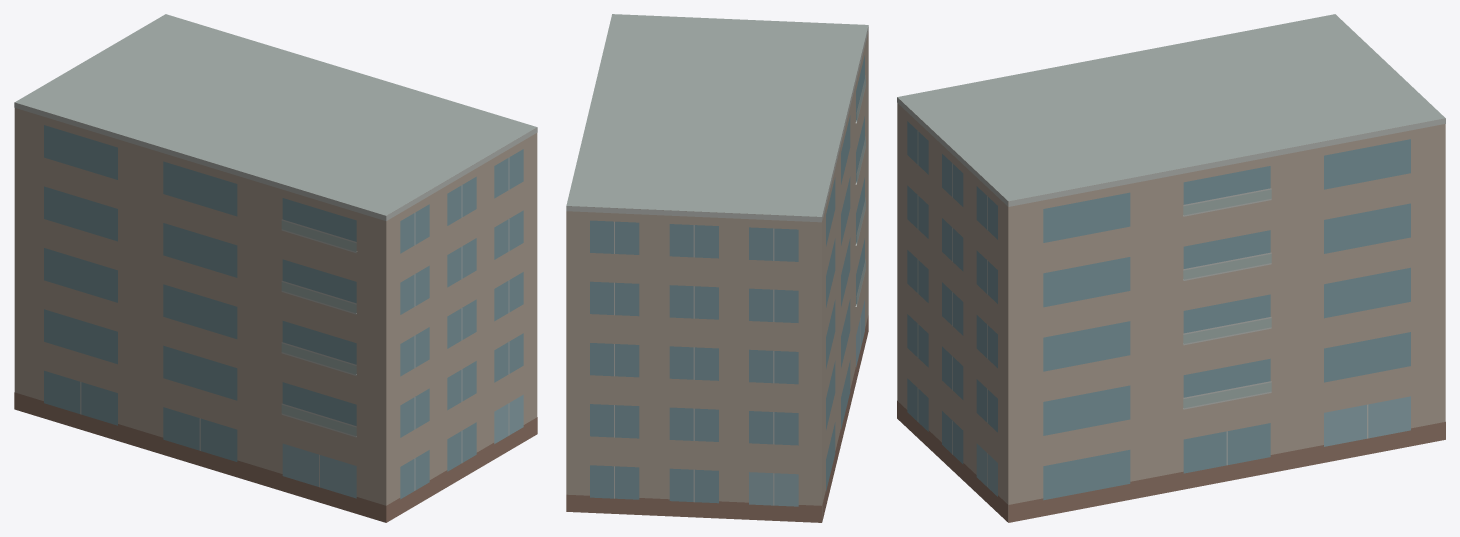
File: survey-upis-32968444.glb
The picture shows the model from 3 angles, left to right: view 1: azimuth 30°, elevation 25°; view 2: azimuth 150°, elevation 25°; view 3: azimuth 270°, elevation 25°; orthographic projection. The views are drawn at different scales.
Visible parts, largest first — view 1: survey-upis-32968444.tmp; view 2: survey-upis-32968444.tmp; view 3: survey-upis-32968444.tmp.
Boxes of the visible parts, x1,y1,x2,y2 form: survey-upis-32968444.tmp: (14,14,537,522); survey-upis-32968444.tmp: (566,14,868,522); survey-upis-32968444.tmp: (897,14,1445,522).
Bounding box in the file's own units: 17.51 × 14 × 21.66.
